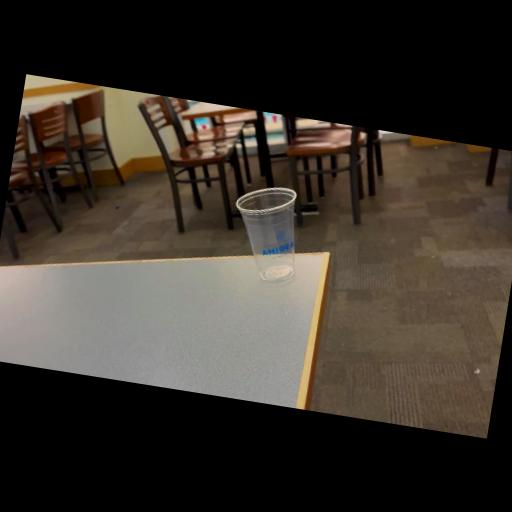lp_plastic_cup: (222, 177, 309, 289)
